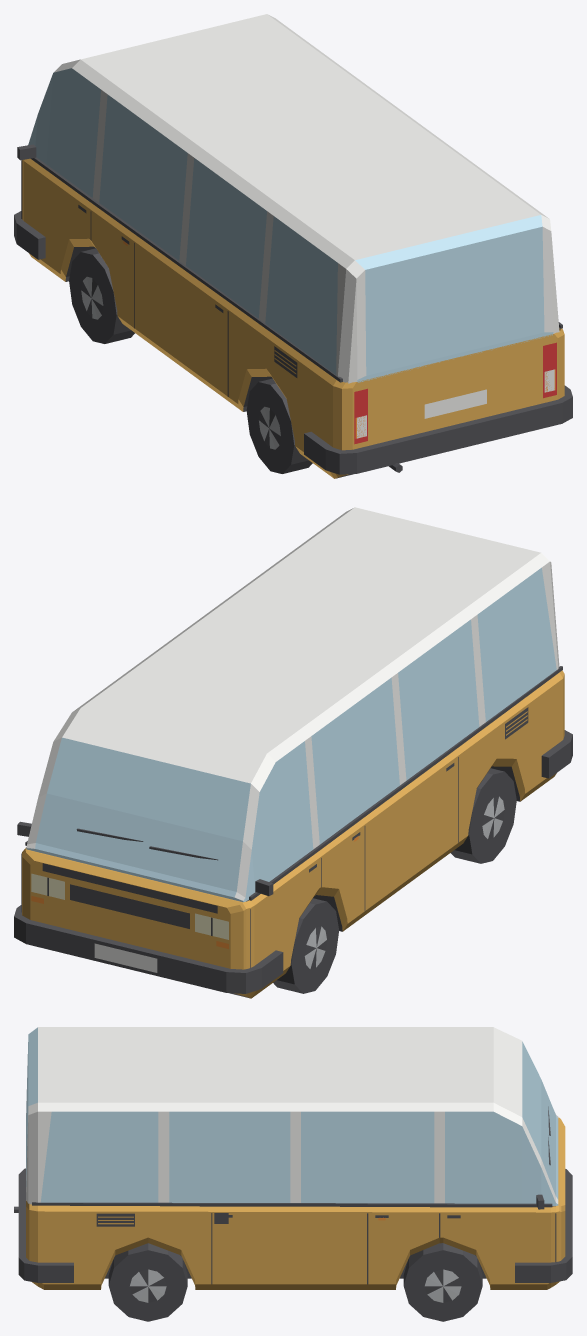
The model's file is transporter.glb.
3 views of the same model, one above another, from view 1: azimuth 30°, elevation 25°; view 2: azimuth 150°, elevation 25°; view 3: azimuth 270°, elevation 25° (orthographic). The views are drawn at different scales.
Parts seen in each view (by area): view 1: body, door_FL, wheel_FL, wheel_RL; view 2: body, door_FL, wheel_FL, wheel_RL; view 3: body, door_FR, wheel_FR, wheel_RR.
Boxes of the visible parts, bbox=[...] form: body: bbox=[14, 14, 572, 478]; door_FL: bbox=[21, 68, 104, 281]; wheel_FL: bbox=[69, 248, 134, 343]; wheel_RL: bbox=[246, 378, 312, 473]; body: bbox=[14, 507, 572, 997]; door_FL: bbox=[244, 738, 321, 998]; wheel_FL: bbox=[273, 898, 339, 993]; wheel_RL: bbox=[451, 768, 516, 863]; body: bbox=[14, 1027, 572, 1289]; door_FR: bbox=[439, 1111, 555, 1289]; wheel_FR: bbox=[403, 1243, 482, 1321]; wheel_RR: bbox=[108, 1243, 187, 1321].
Size of the model in its own units: 2.03 by 1.95 by 4.66.
